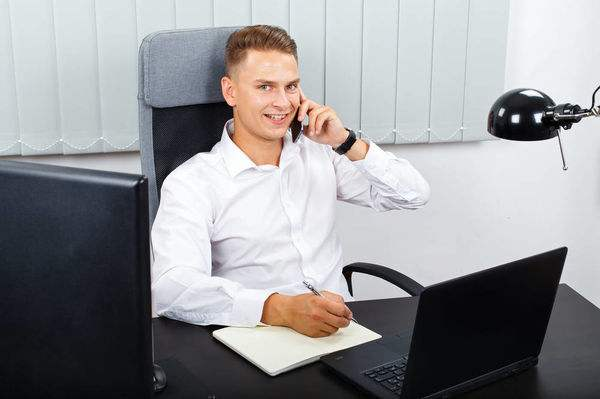calling: (287, 79, 345, 147)
